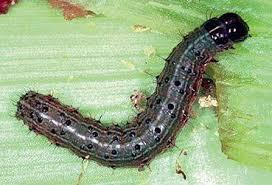fallarmy_worm: (11, 9, 258, 174)
